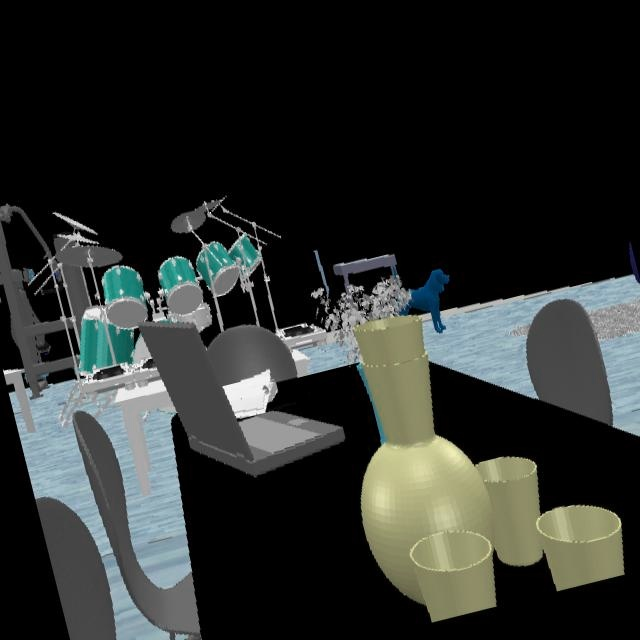book: (222, 371, 276, 420)
chair: (72, 412, 200, 636), (35, 496, 115, 640), (525, 300, 611, 424), (208, 325, 297, 384)
laptop: (138, 322, 347, 478)
table: (172, 367, 429, 640), (431, 364, 640, 574)
